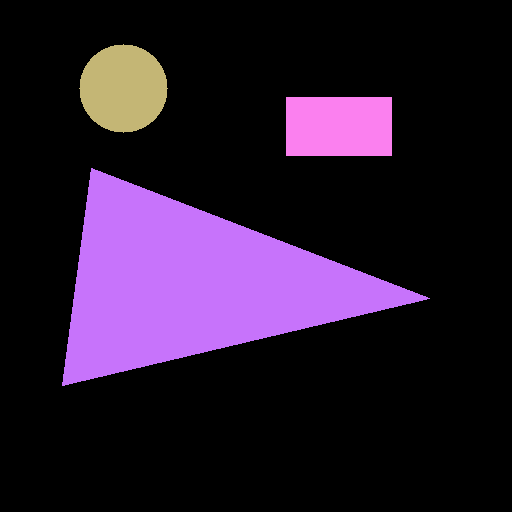circle: (79, 44, 167, 132)
rectangle: (286, 97, 391, 155)
triangle: (62, 168, 429, 385)
